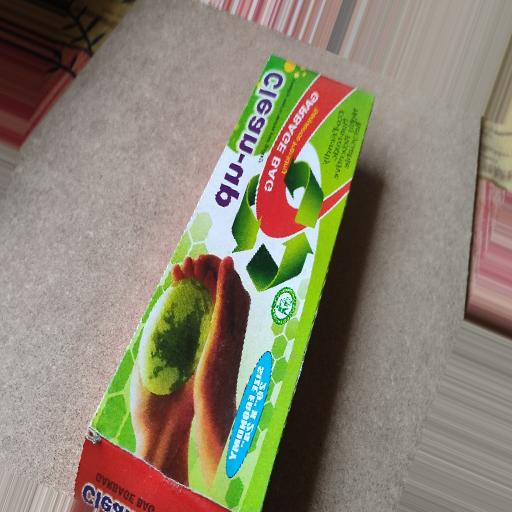CleanUp Garbage bag: (102, 42, 378, 511)
